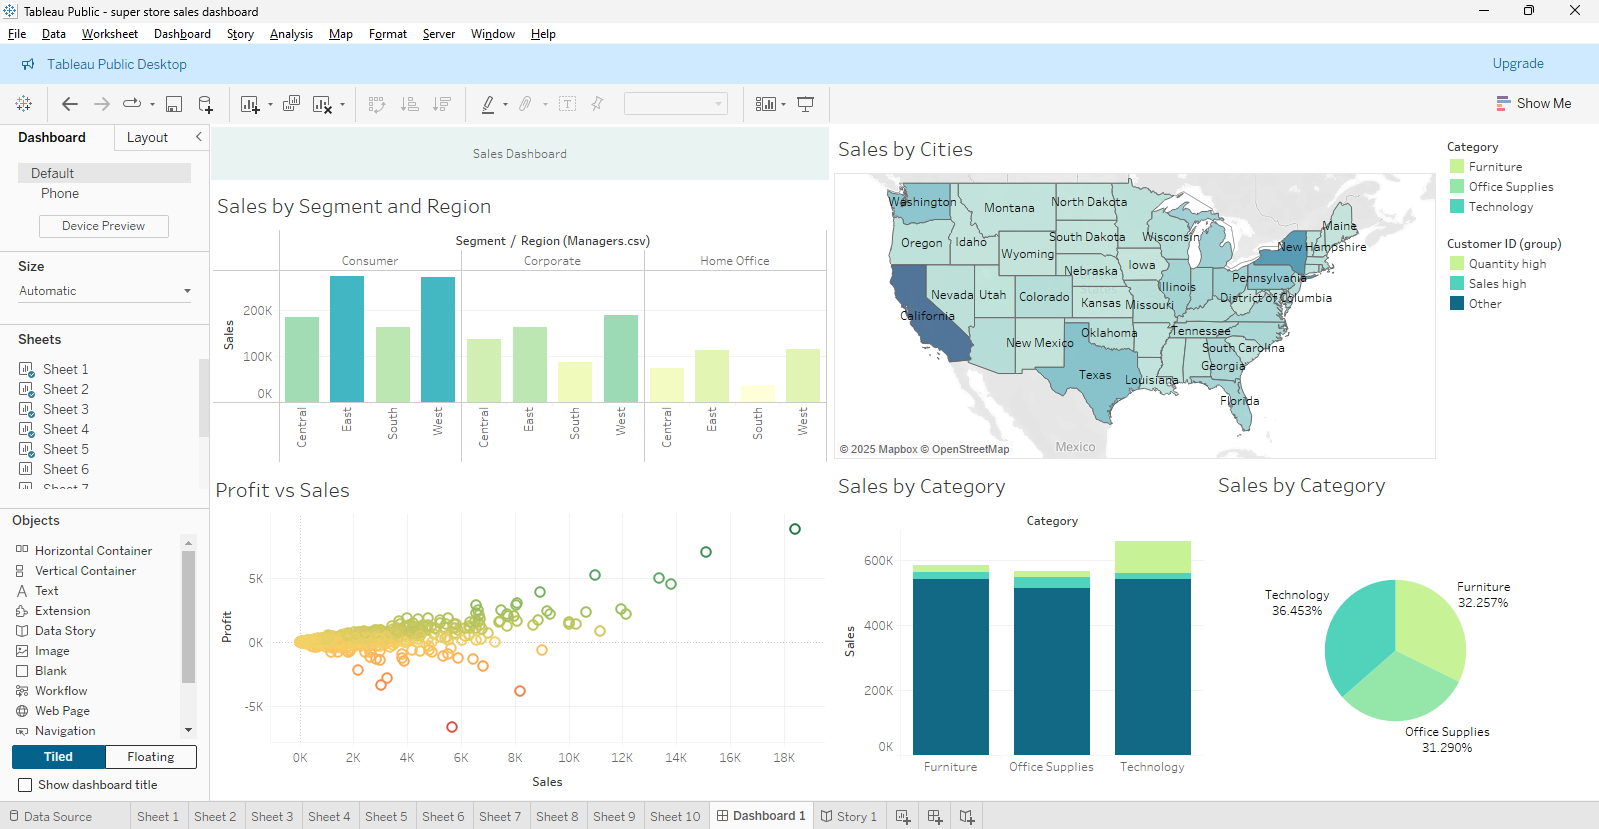

The dashboard page shown, as its layout file describes it:
{"tool":"tableau","page":{"name":"Dashboard 1","canvas":[1000,1000],"units":"permille","ordinal":0},"visuals":[{"type":"text","box":[1,3.8,444.9,78.5]},{"type":"worksheet","title":"Sheet 3","mark":"Automatic","box":[449.2,8.9,433.4,486.7]},{"type":"legend","title":"Sheet 2","param":"[federated.0q1a0zv0hkf6bn1g5ahs01thosbk].[none:Category:nk]","box":[890.6,20.7,100.8,115.4]},{"type":"worksheet","title":"Sheet 1","mark":"Automatic","rows":["Sales"],"cols":["Segment","Region (Managers.csv)"],"box":[2,93.9,441.9,408.1]},{"type":"legend","title":"Sheet 5","param":"[federated.0q1a0zv0hkf6bn1g5ahs01thosbk].[Customer ID (group)]","box":[890.6,164.2,100.8,115.4]},{"type":"worksheet","title":"Sheet 2","mark":"Pie","box":[722.8,505.9,261.3,482.2]},{"type":"worksheet","title":"Sheet 5","mark":"Automatic","rows":["Sales"],"cols":["Category"],"box":[449.2,507.4,266.4,485.2]},{"type":"worksheet","title":"Sheet 4","mark":"Automatic","rows":["Profit"],"cols":["Sales"],"box":[0.7,513.3,442,482.2]}]}

Visuals, with their boxes on the dashboard's canvas, which has no fixed pixel size, in thousandths of its width and height (x1, y1, x2, y2). These are canvas units, not pixel positions in the 1599x829 screenshot, which may show the page scaled, cropped or inside an application window:
text: 1 4 446 82
"Sheet 3" worksheet: 449 9 883 496
"Sheet 2" legend: 891 21 991 136
"Sheet 1" worksheet: 2 94 444 502
"Sheet 5" legend: 891 164 991 280
"Sheet 2" worksheet (Pie marks): 723 506 984 988
"Sheet 5" worksheet: 449 507 716 993
"Sheet 4" worksheet: 1 513 443 996
